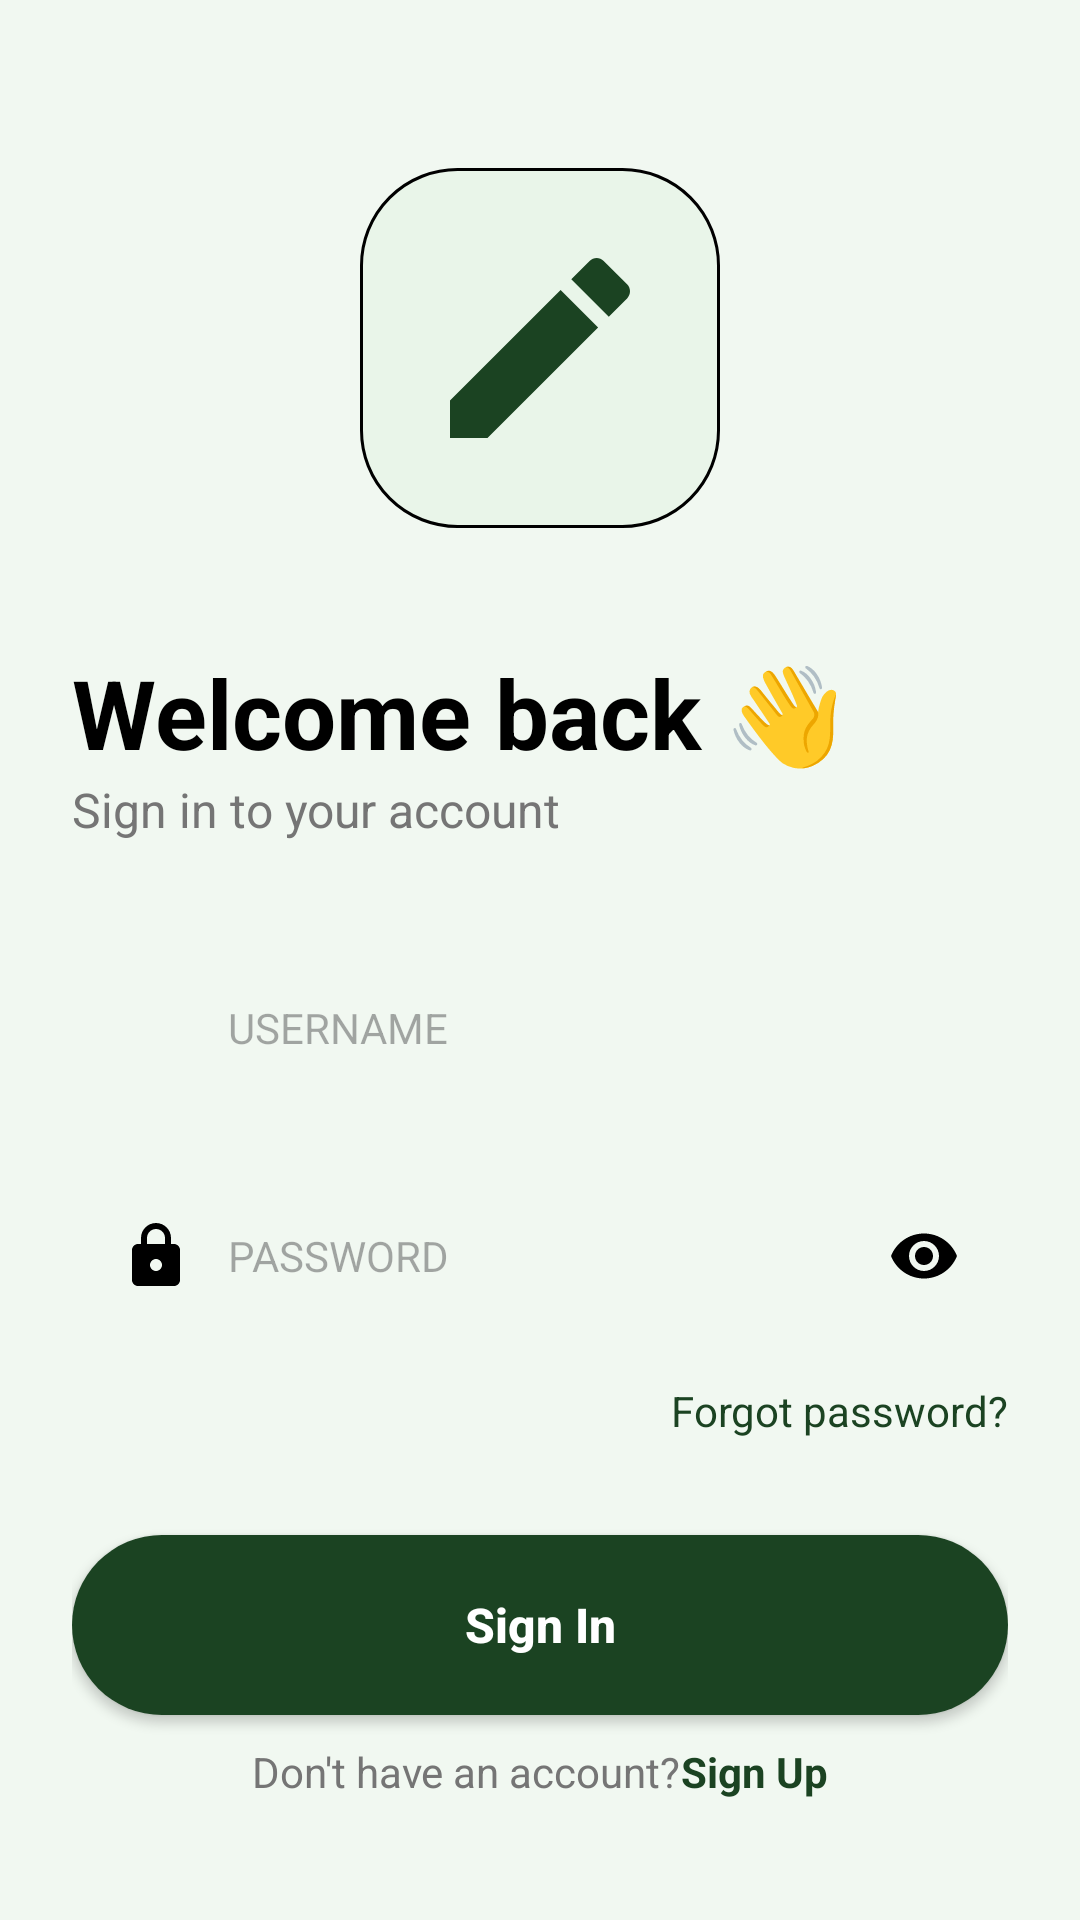

Icons on this 1080x1920 Android screen, each with the point to tap as (x=x, y=y):
lock: (x=156, y=1254)
pencil: (x=540, y=348)
visibility: (x=924, y=1256)
